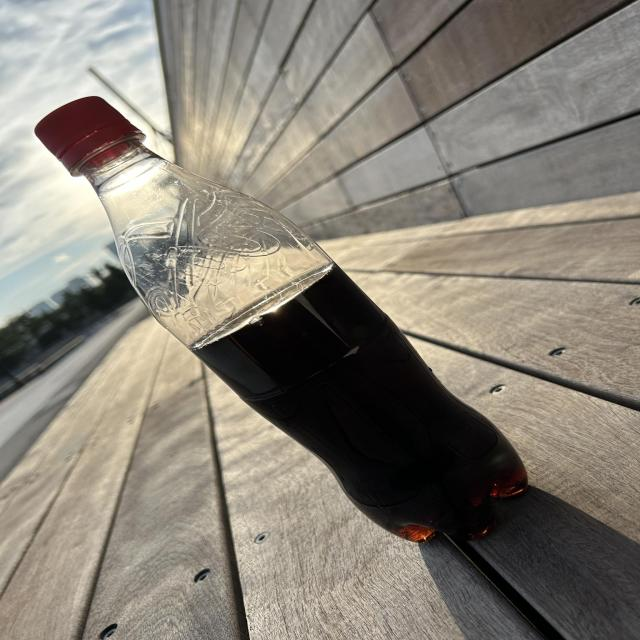medium: (35, 97, 528, 542)
